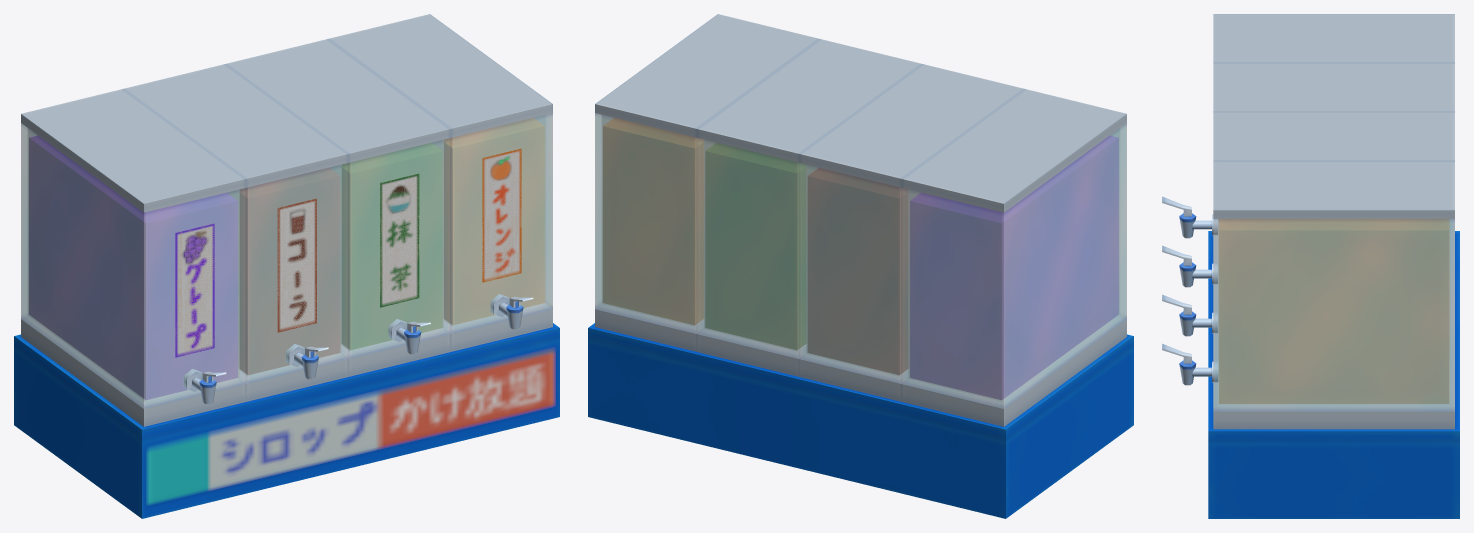
File: jsf_SyrupCaseDispenser_02.fbx
The picture shows the model from 3 angles, left to right: view 1: azimuth 30°, elevation 25°; view 2: azimuth 150°, elevation 25°; view 3: azimuth 270°, elevation 25°; orthographic projection.
Parts seen in each view (by area): view 1: Body, Window, Syrup_Grape, Syrup_PowderedGreenTea, Syrup_Orange, Syrup_Cola; view 2: Body, Window, Syrup_Grape, Syrup_Orange, Syrup_PowderedGreenTea, Syrup_Cola; view 3: Body, Window, Syrup_Orange.
Boxes of the visible parts, box(x1,y1,x2,y2) form: Body: box(14, 14, 559, 518); Window: box(21, 113, 552, 408); Syrup_Grape: box(29, 136, 237, 399); Syrup_PowderedGreenTea: box(342, 143, 442, 349); Syrup_Orange: box(444, 118, 544, 324); Syrup_Cola: box(240, 168, 339, 374); Body: box(588, 14, 1133, 518); Window: box(595, 113, 1126, 408); Syrup_Grape: box(910, 136, 1118, 399); Syrup_Orange: box(603, 118, 703, 324); Syrup_PowderedGreenTea: box(705, 143, 805, 349); Syrup_Cola: box(808, 168, 907, 374); Body: box(1179, 14, 1459, 518); Window: box(1213, 219, 1454, 411); Syrup_Orange: box(1219, 219, 1448, 403).
Size of the model in its own units: 49 by 35 by 30.79.
